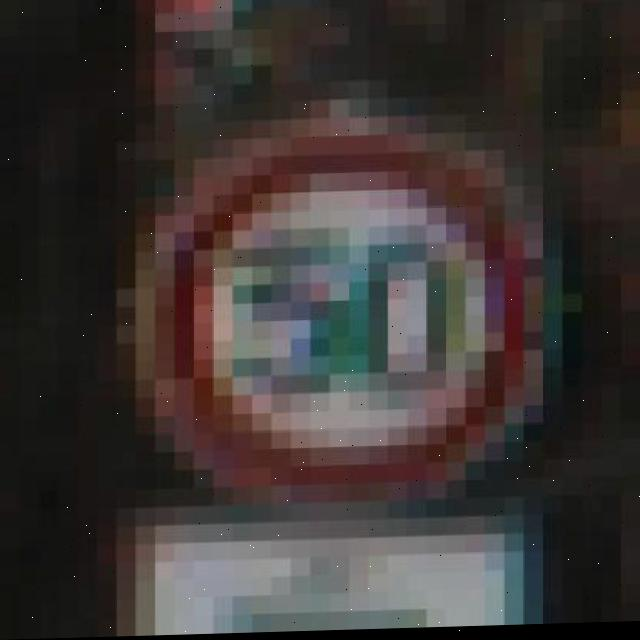Speed limit 50: (146, 122, 547, 513)
